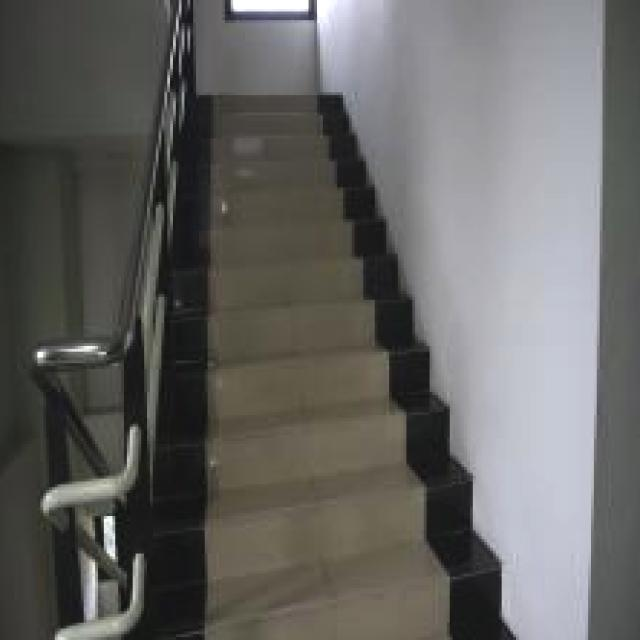upstair: (183, 93, 399, 615)
